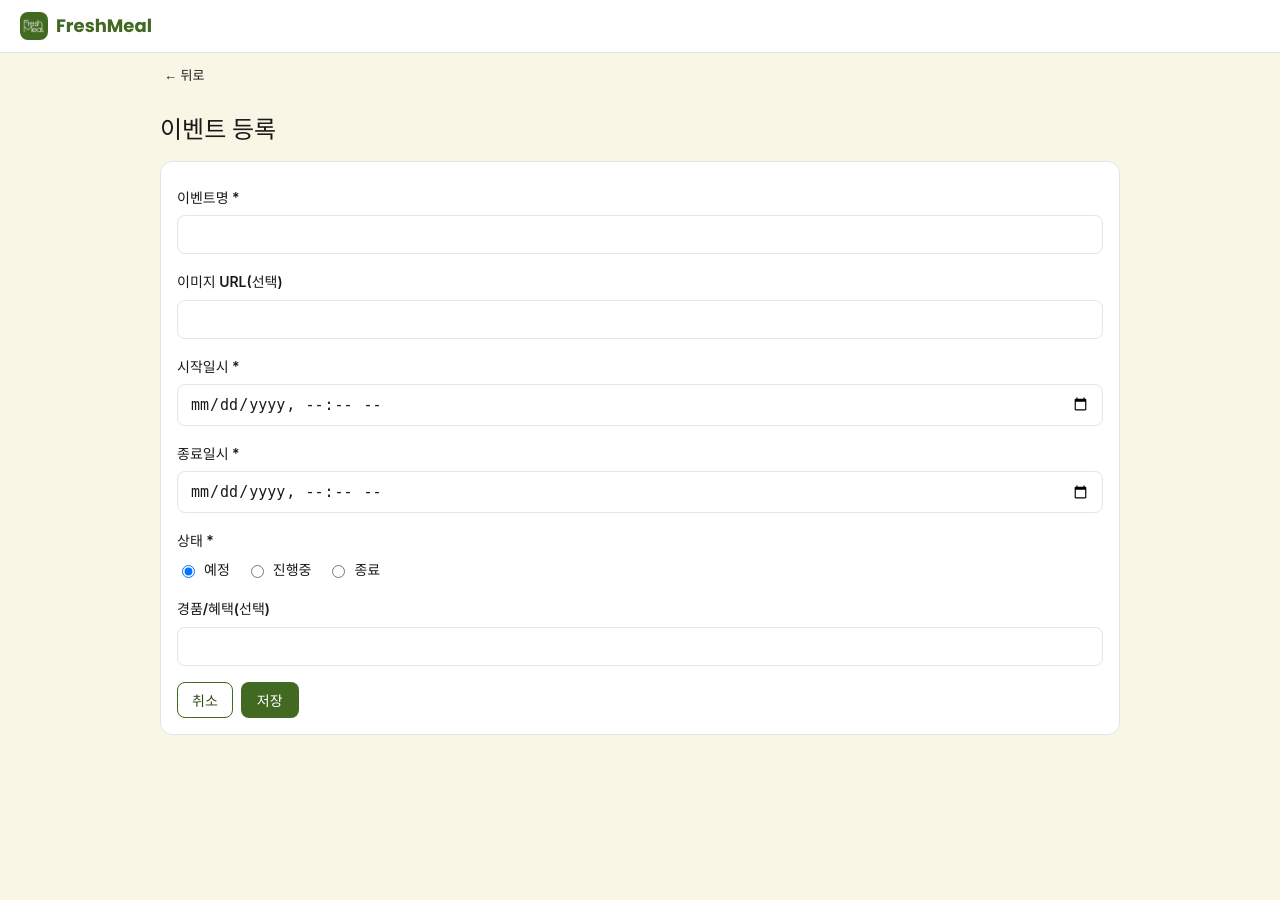
Scenario: AdminEventFormPage › 등록 시 서버가 오류를 반환하면 오류 메시지가 화면에 표시된다
Type "가을 신메뉴" into the field labelled "이벤트명 *" at [640, 235], box [177,215,1103,254]
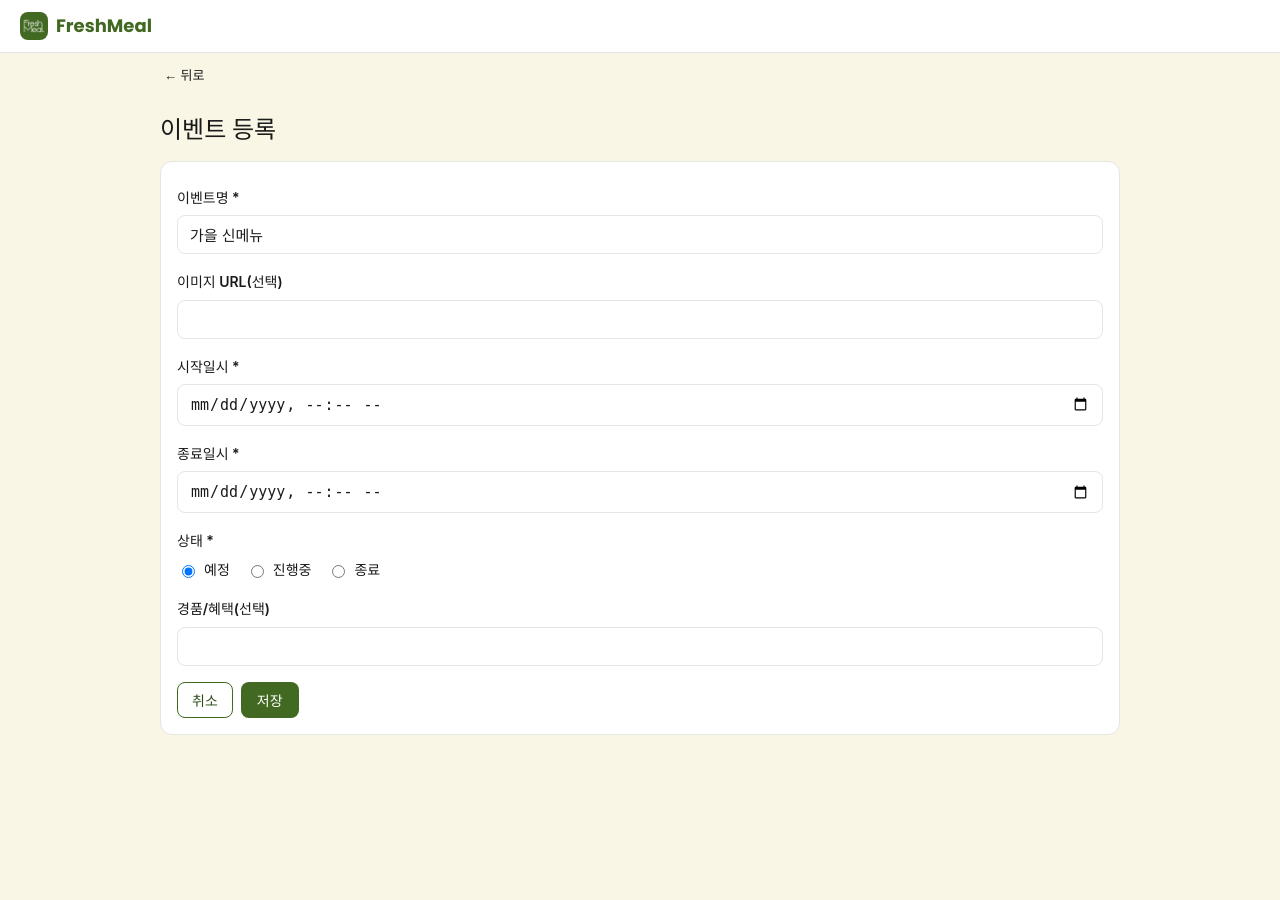
Type "2026-09-01T00:00" into the field labelled "시작일시 *" at [640, 405], box [177,384,1103,426]
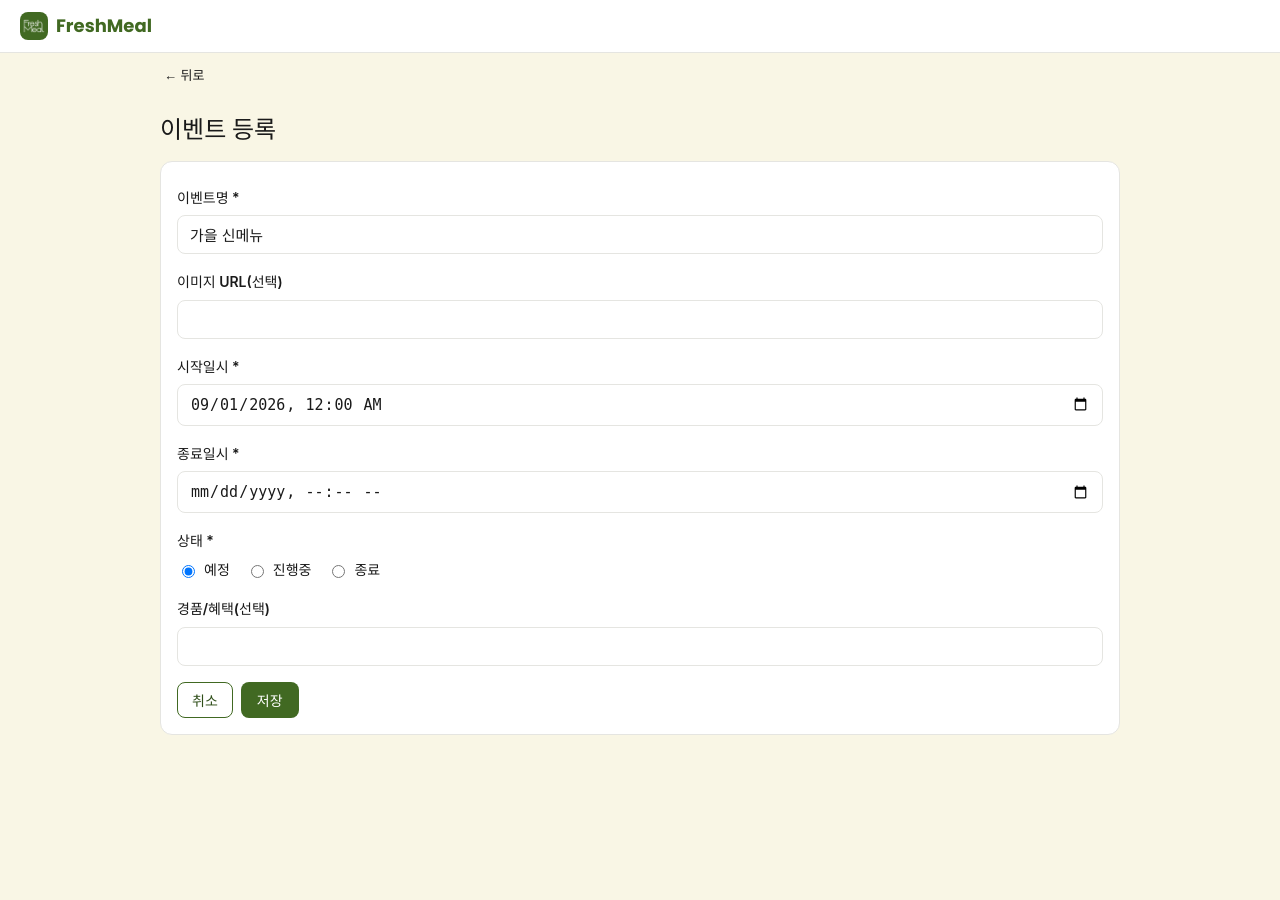
Type "2026-09-30T00:00" into the field labelled "종료일시 *" at [640, 492], box [177,471,1103,513]
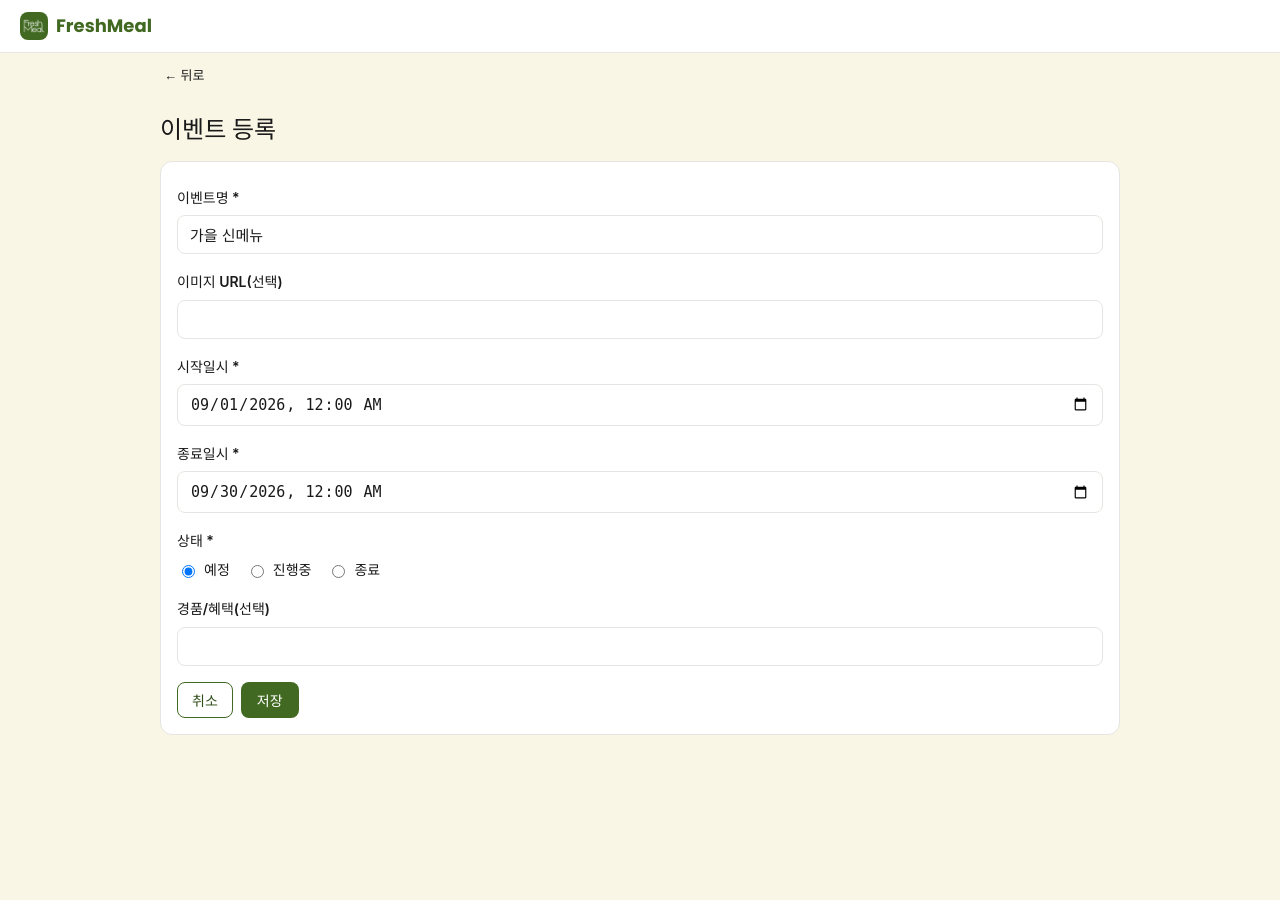
Click the button "저장" at [270, 700], box [241,682,299,718]
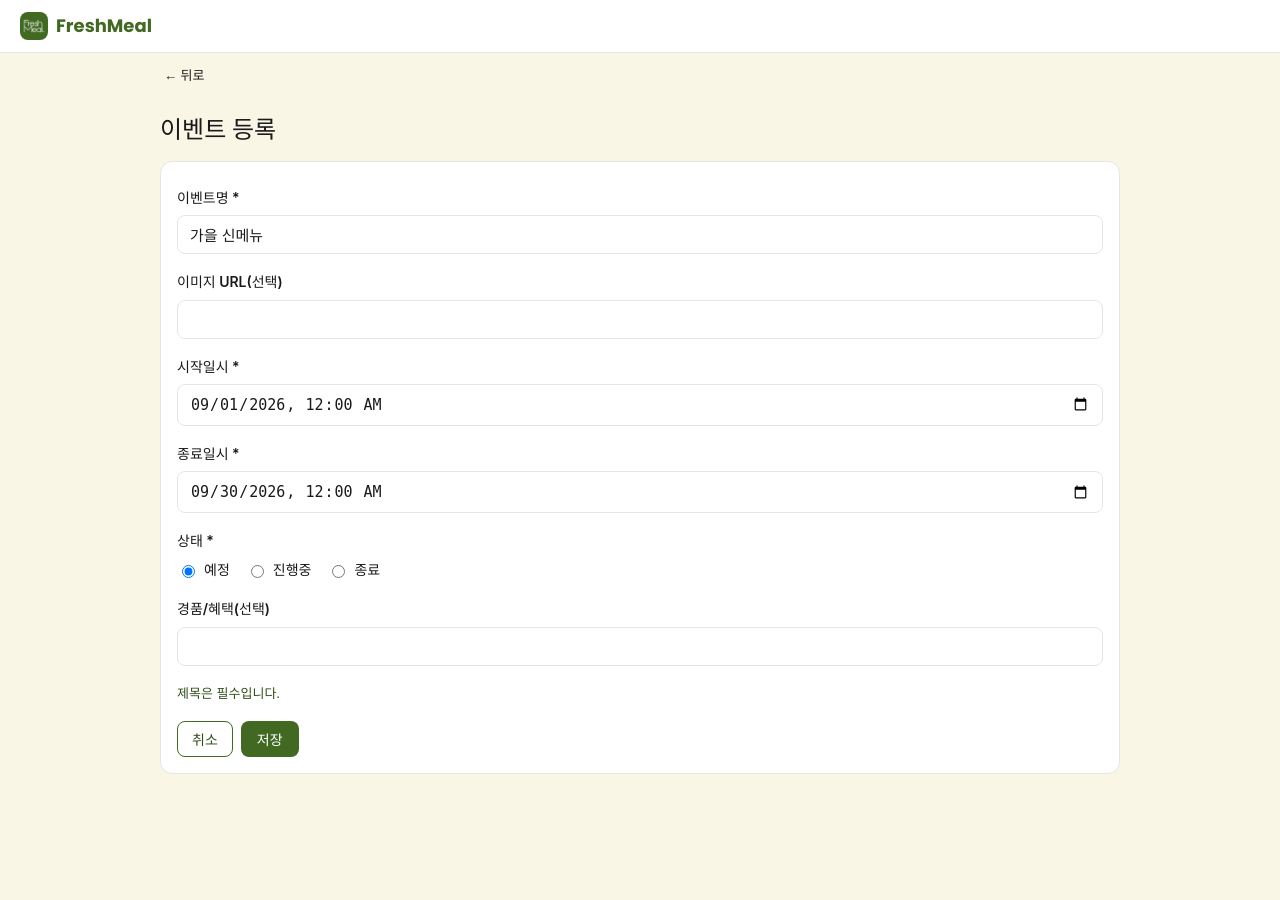
Result: the text "제목은 필수입니다." is shown at [177,685,280,701]
